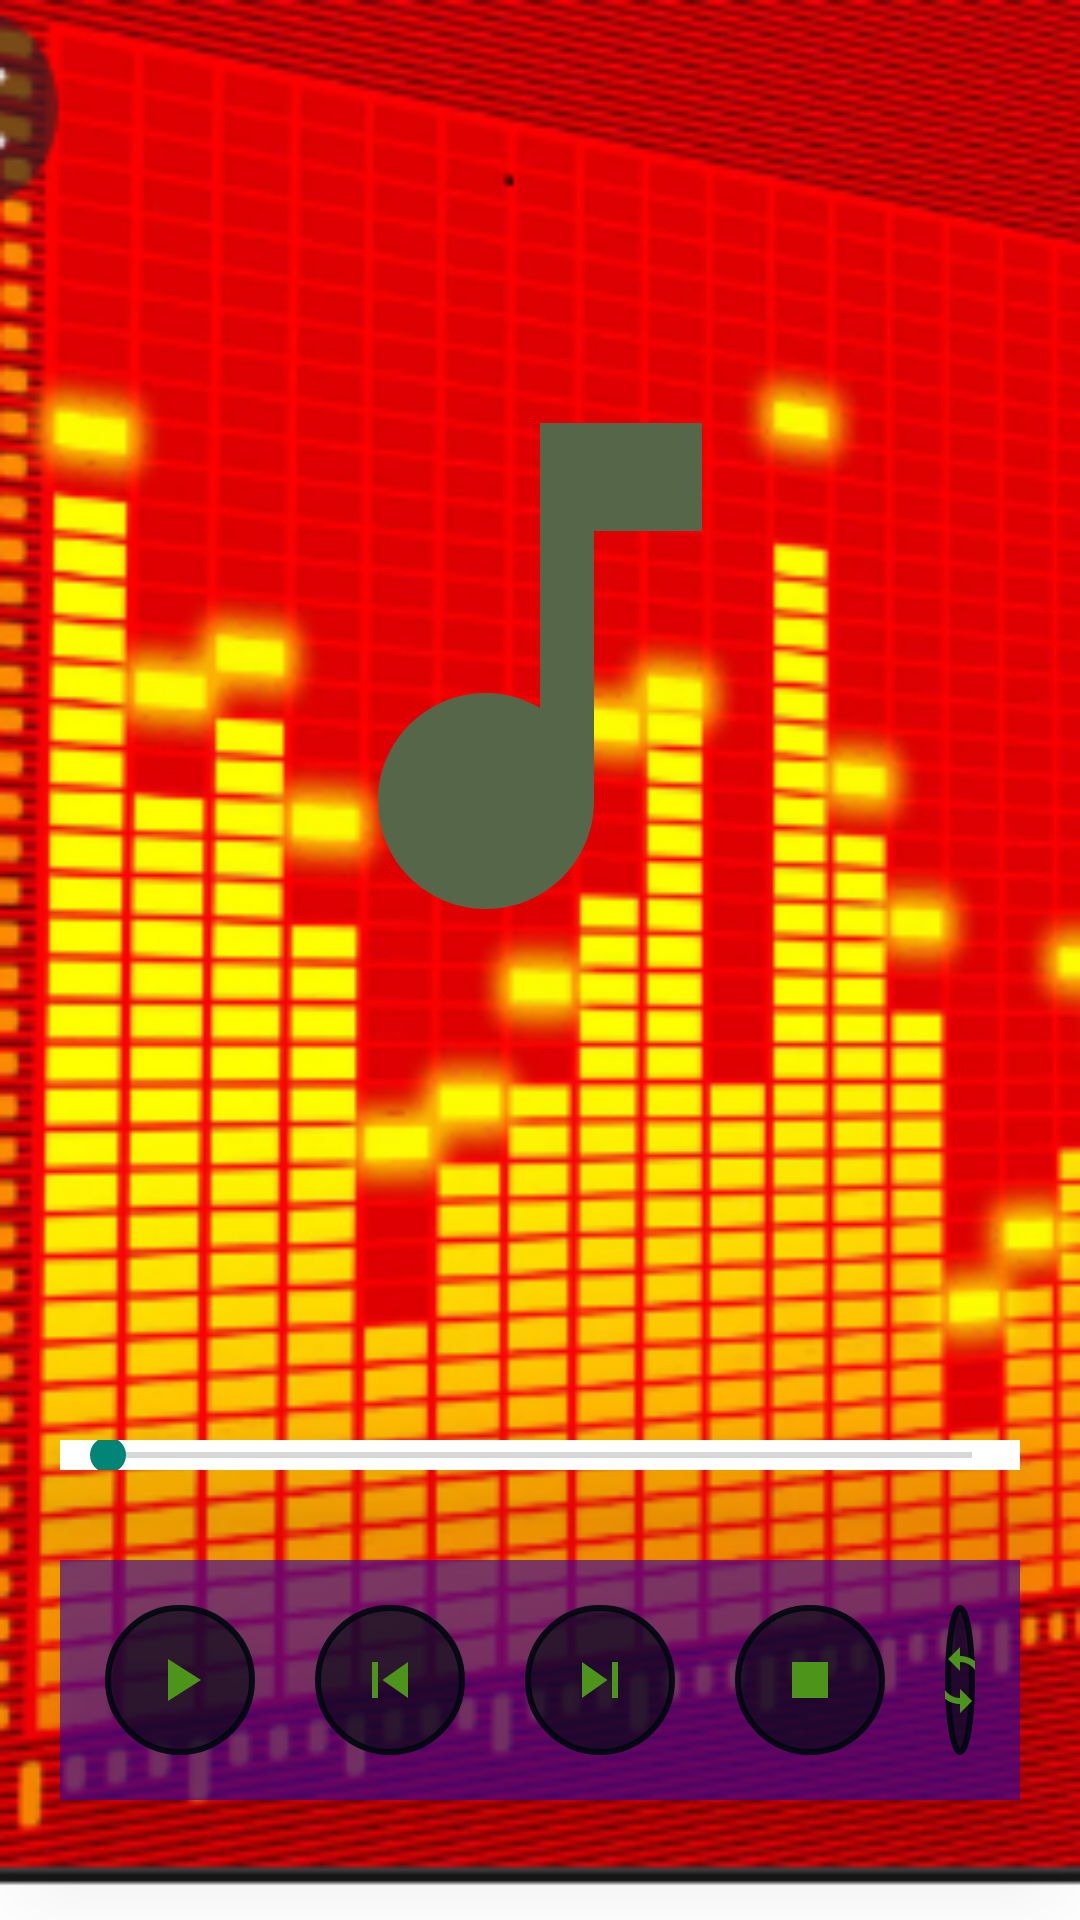

Screen size 1080w x 1920h. Icon name, then its center in pixels as (x=x, y=y):
loop: (x=960, y=1680)
play: (x=180, y=1680)
skipback: (x=390, y=1680)
skipnext: (x=600, y=1680)
stop: (x=810, y=1680)
